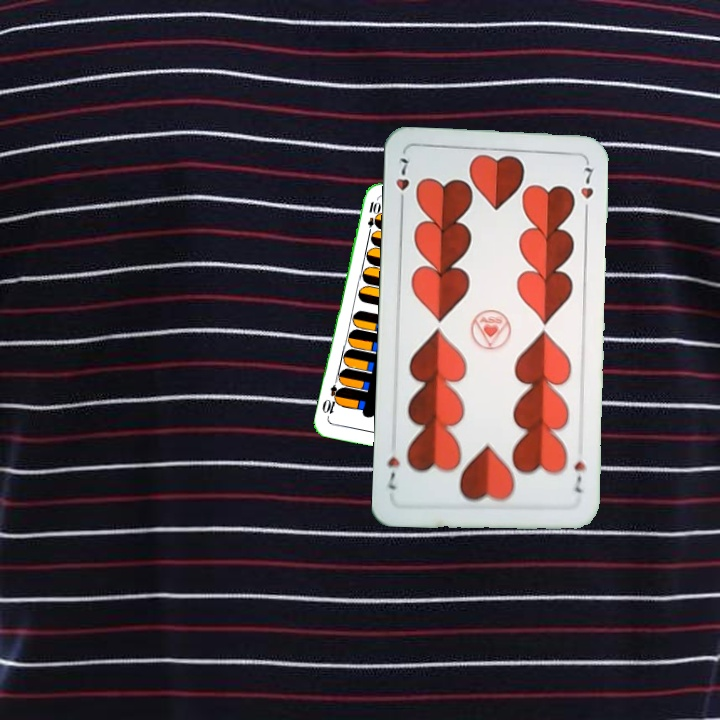E10: (364, 197, 382, 238)
H7: (392, 154, 413, 210), (570, 457, 588, 496)
